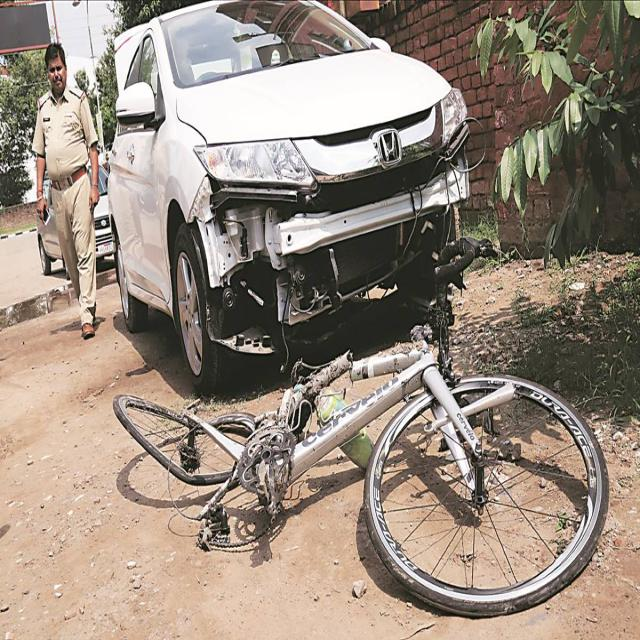accident: (109, 0, 469, 392), (114, 343, 609, 616)
